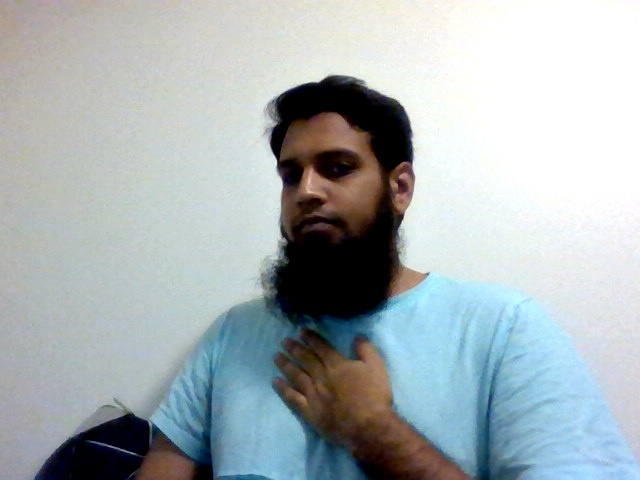please: (270, 324, 399, 456)
